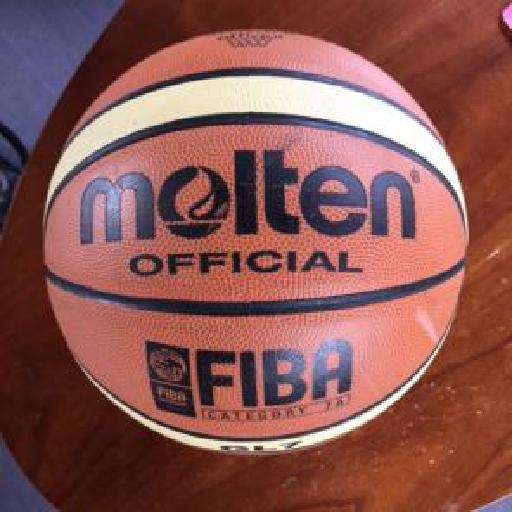ball: (44, 28, 466, 457)
